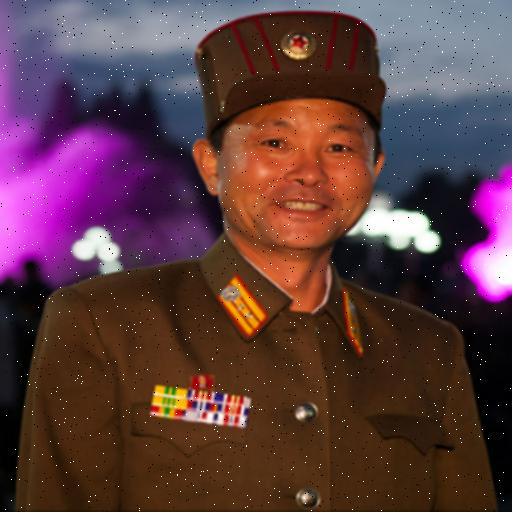north army: (47, 18, 504, 512)
